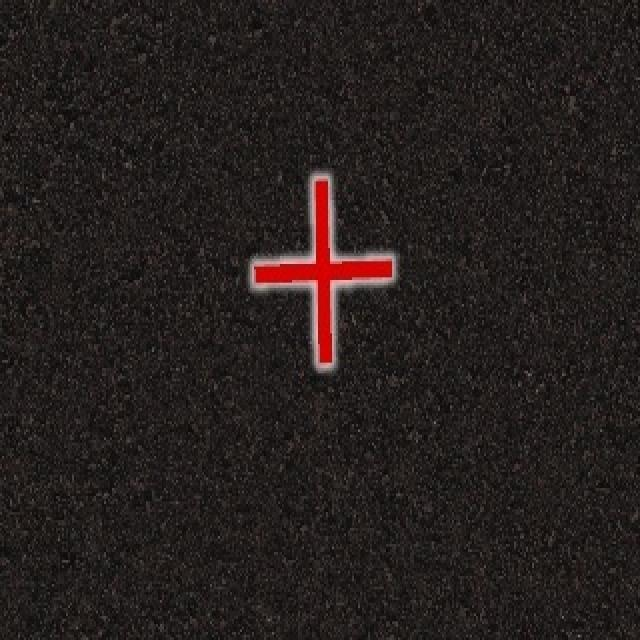x_marker: (253, 177, 391, 364)
